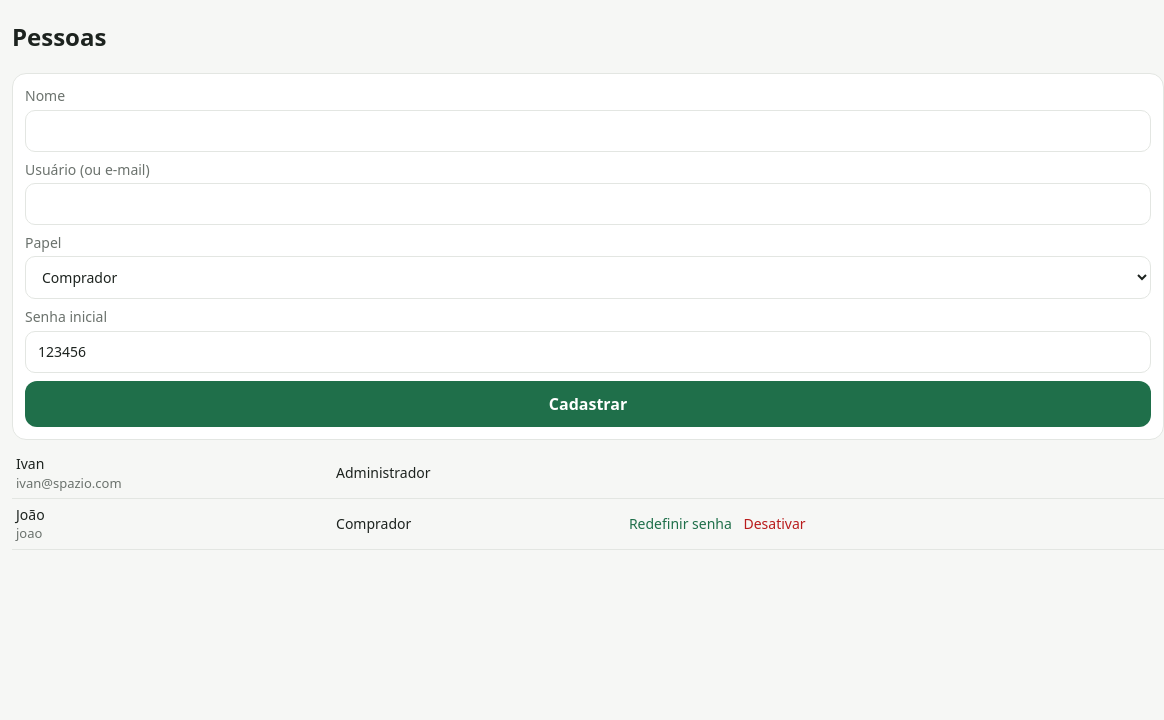
Test: Pessoas (P1 + P3 — login com usuário + senha padrão) › erro do servidor (ex.: usuário duplicado) aparece na tela
In the field labelled "Nome": {"x": 588, "y": 131} [25,110,1151,152], type "João de novo"
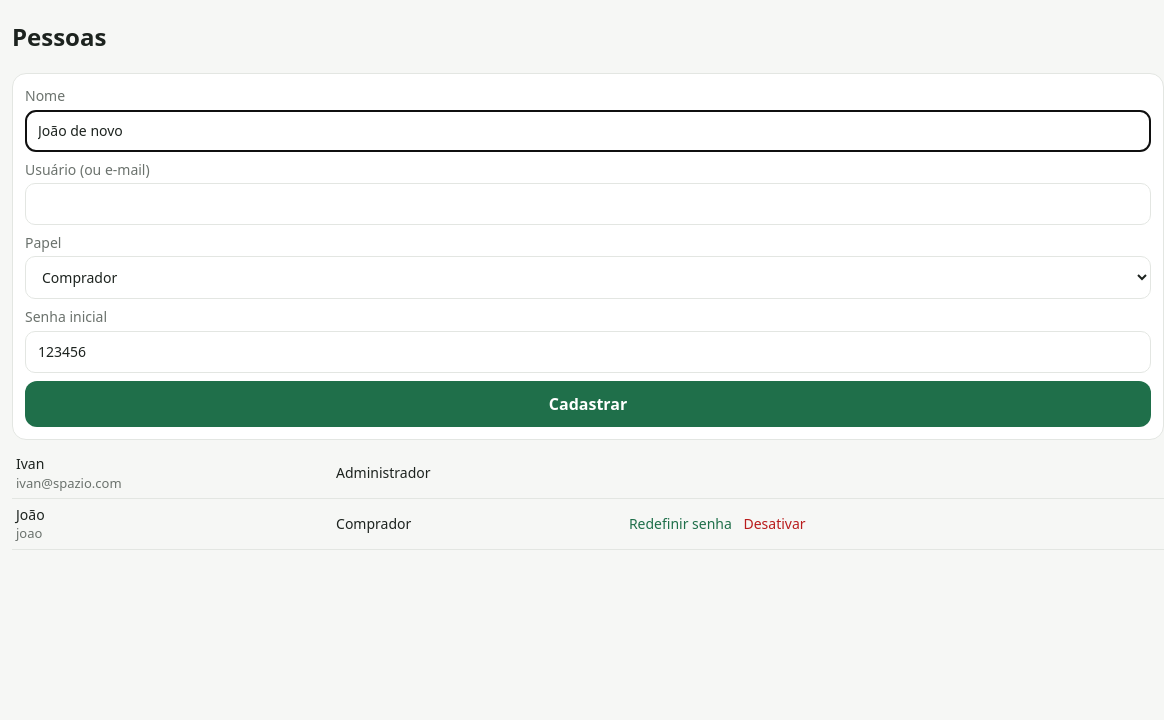
In the field labelled "Usuário (ou e-mail)": {"x": 588, "y": 204} [25,183,1151,225], type "joao"
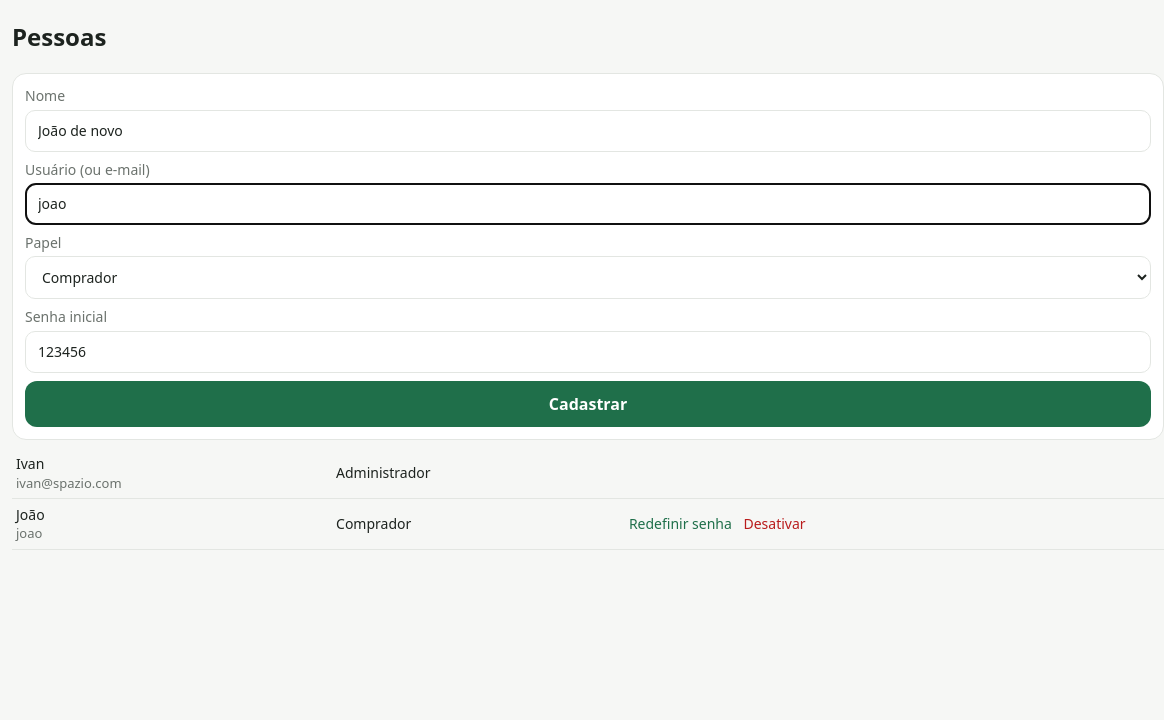
Click the button "Cadastrar": {"x": 588, "y": 404} [25,381,1151,427]
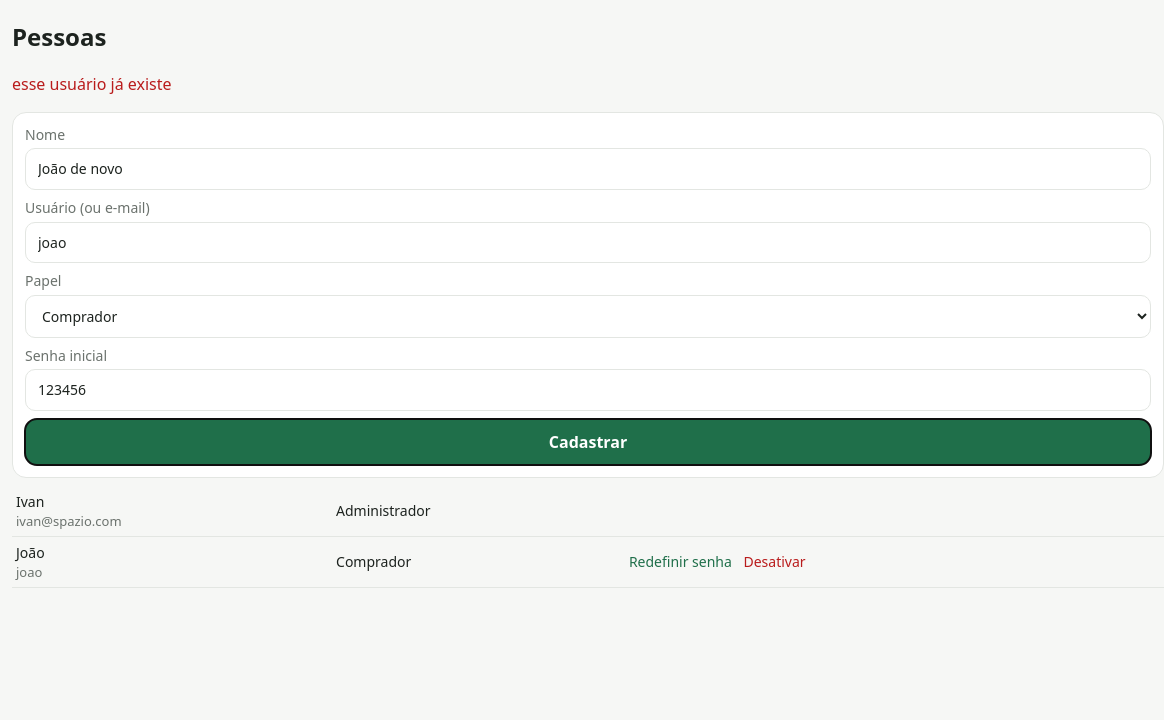
Check: the text "esse usuário já existe" is shown, box [12,73,172,95]
